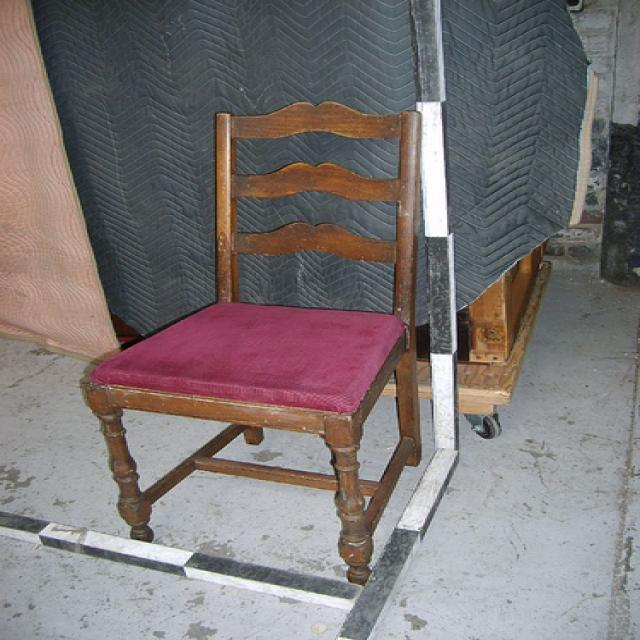chair: (79, 99, 423, 585)
